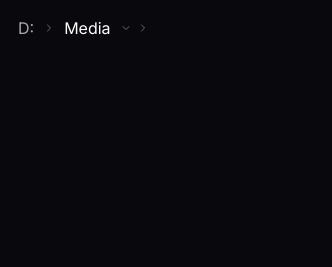
LocationBar › Ctrl+L focuses the path, the arrow keys move along it and right-click opens a part's menu
Press l
Press ArrowLeft in the button "Media", box [58,16,117,40]
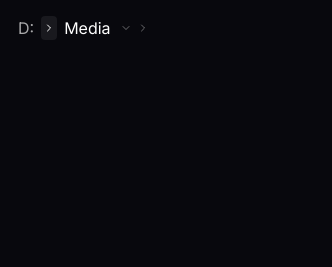
Press ArrowRight in the button named "Folders in D:", box [41,16,57,40]
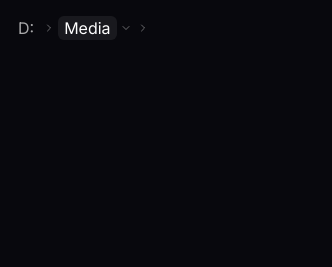
Press ArrowRight in the button "Media", box [58,16,117,40]
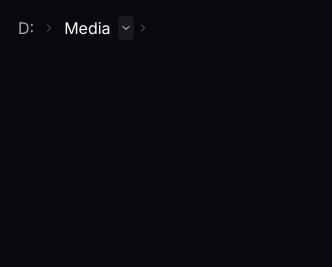
Right-click the button "D:" at [26, 28], box [12,16,40,40]
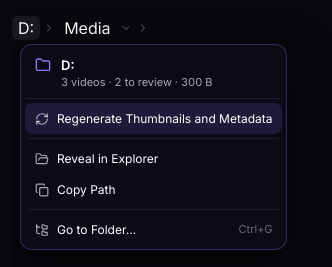
Now the menu "D:" is shown
